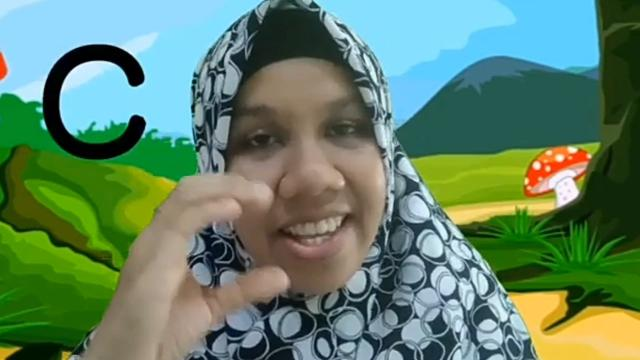C: (107, 172, 290, 360)
